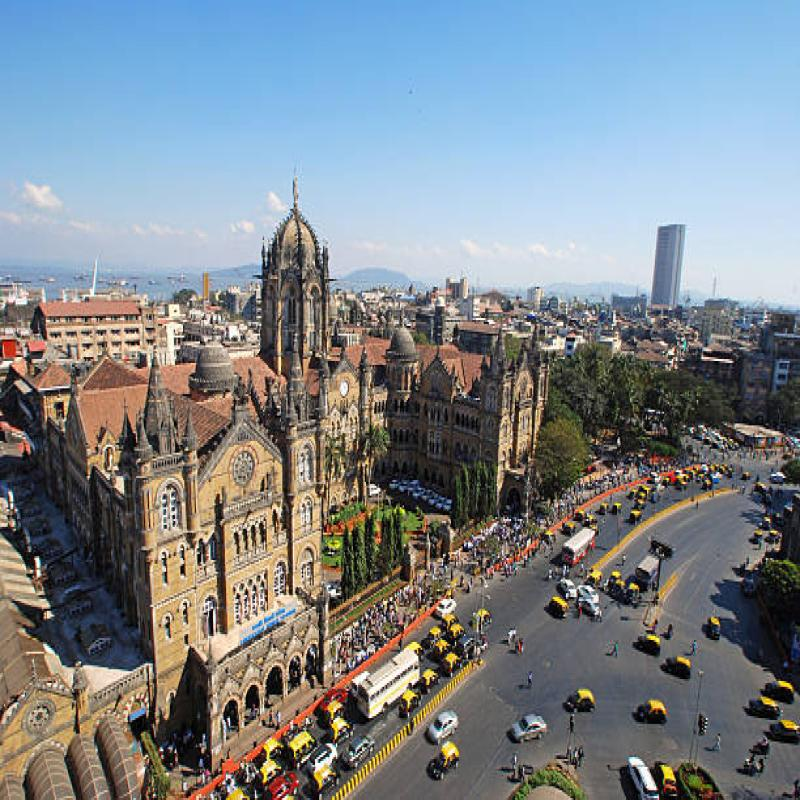auto: (565, 680, 607, 728), (745, 678, 780, 725), (638, 623, 669, 664)
